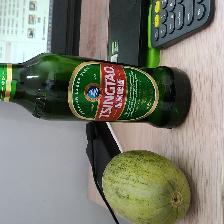gua: (92, 155, 189, 220)
